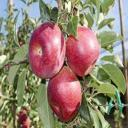apple: (66, 25, 100, 78)
